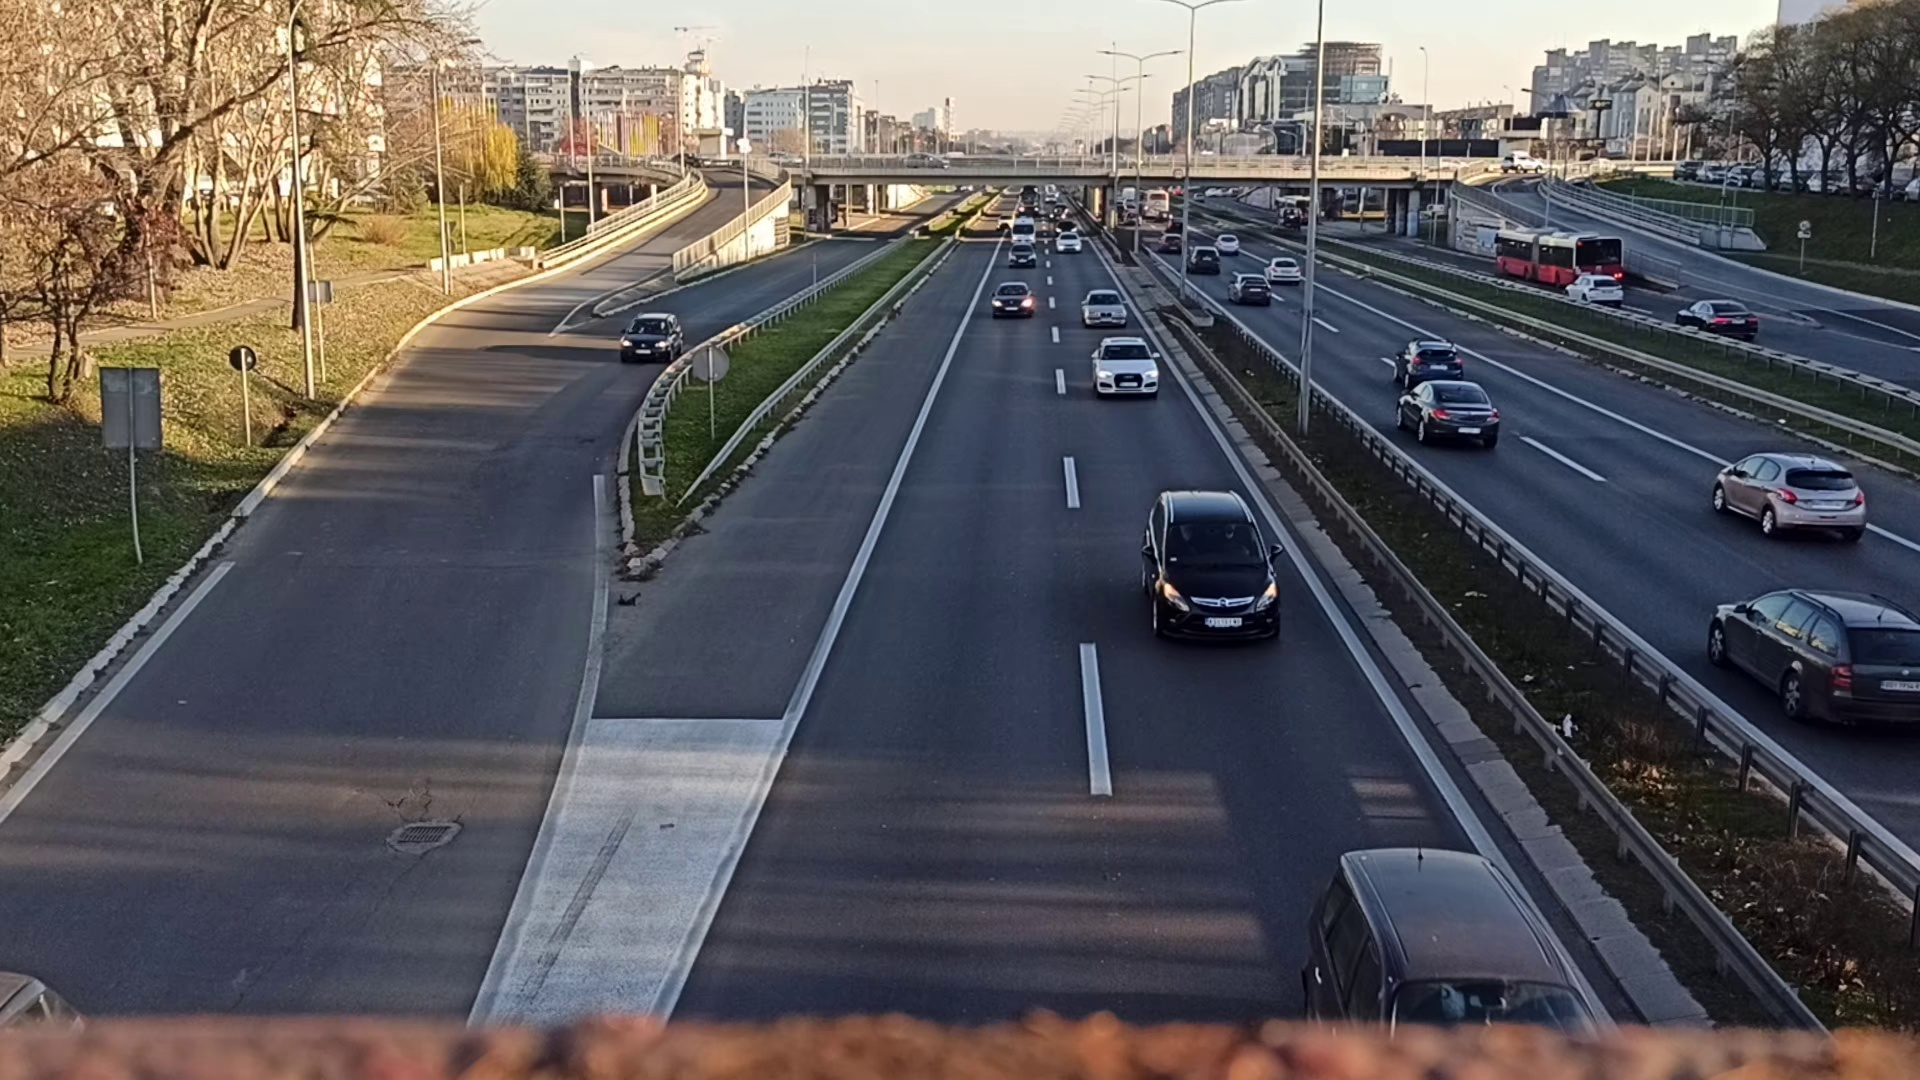car: (1702, 578, 1920, 729), (1133, 485, 1294, 651), (1709, 439, 1869, 554), (1400, 381, 1495, 454), (1087, 335, 1160, 402), (611, 309, 687, 368), (1400, 339, 1462, 386), (1077, 284, 1124, 327), (984, 280, 1035, 314)
